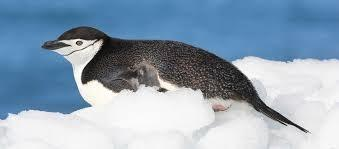chinstrap: (38, 18, 311, 139)
